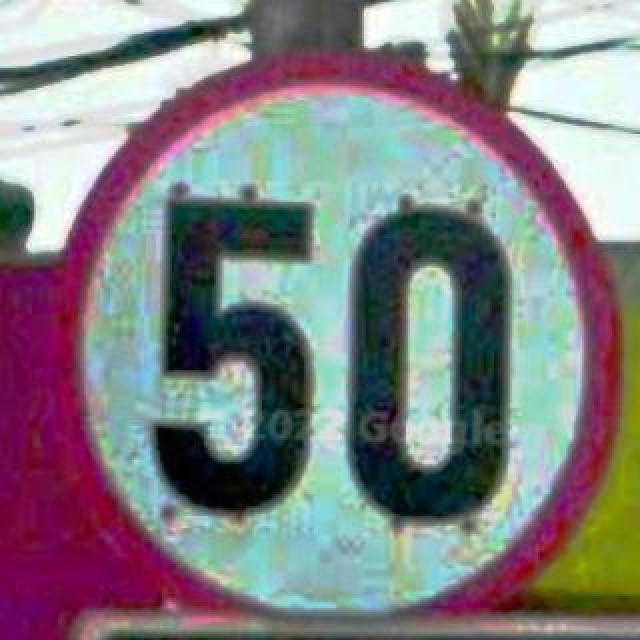50 kph: (44, 38, 616, 618)
